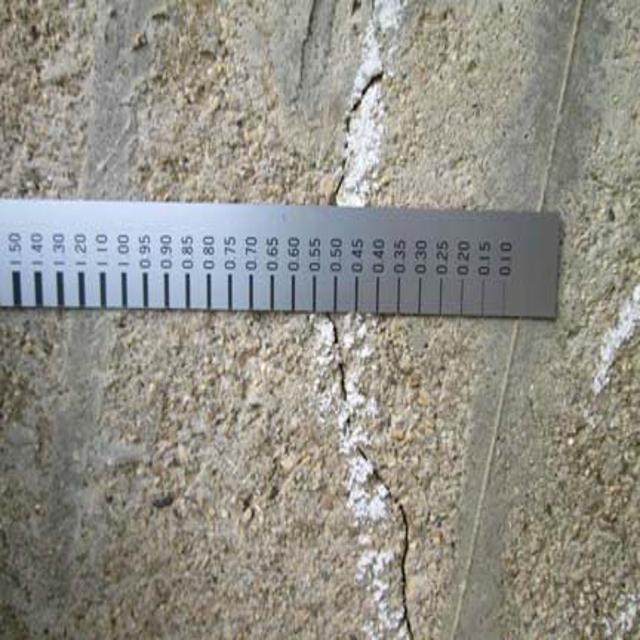crack: (319, 322, 420, 637), (330, 12, 389, 202)
